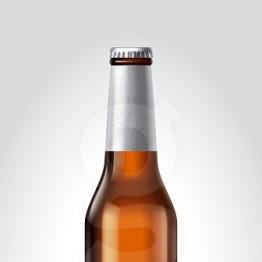beer: (84, 47, 179, 262)
